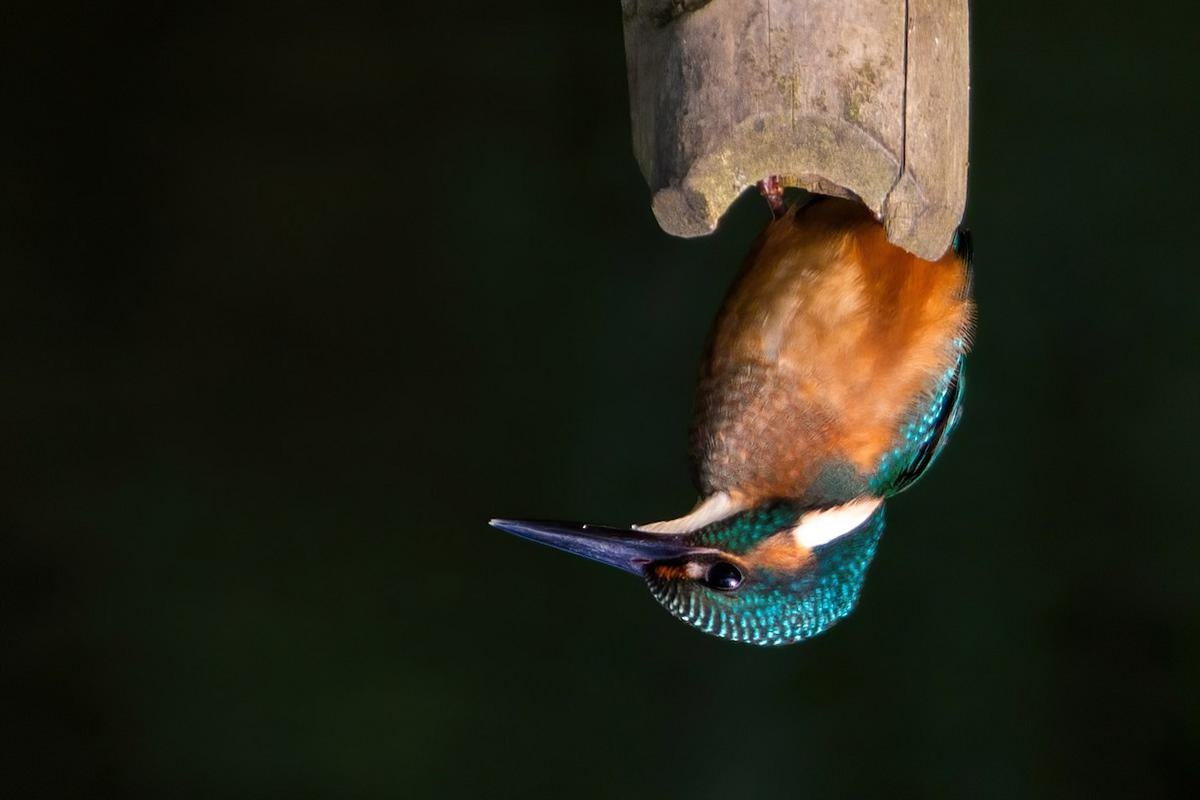kingfisher: (463, 204, 985, 660)
